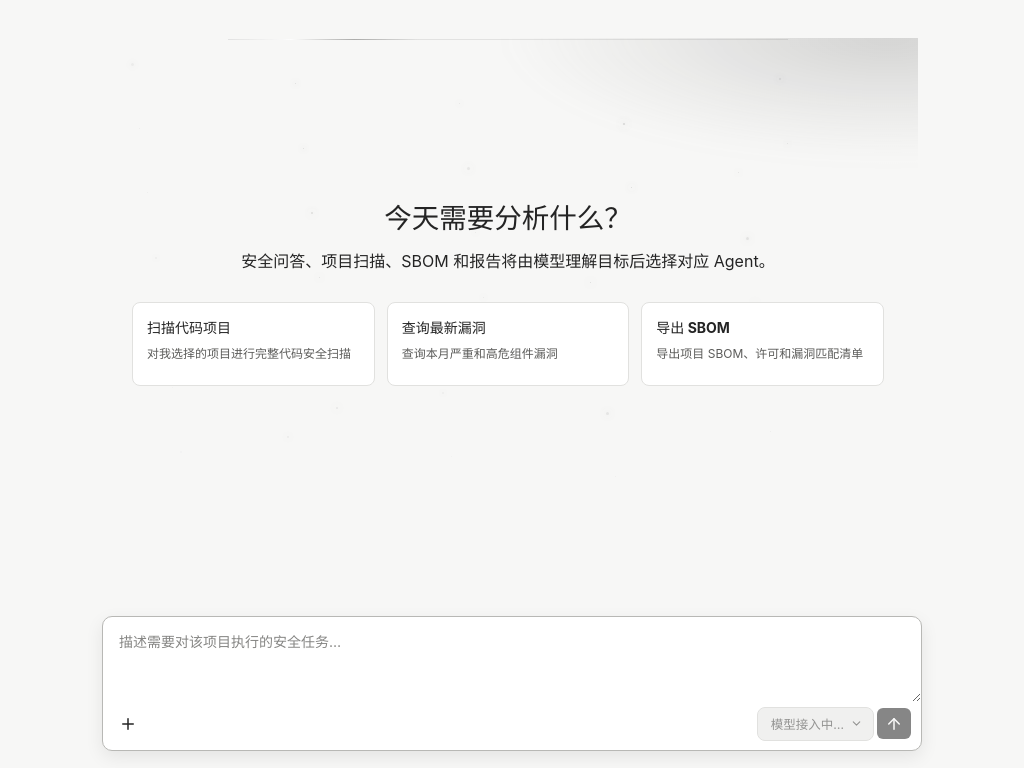
AssistantWorkspace project routing › keeps submitted progress compact without forcing the inspector open
Type "什么是 SQL 注入" into the text box at (512, 659), box [103,617,921,702]
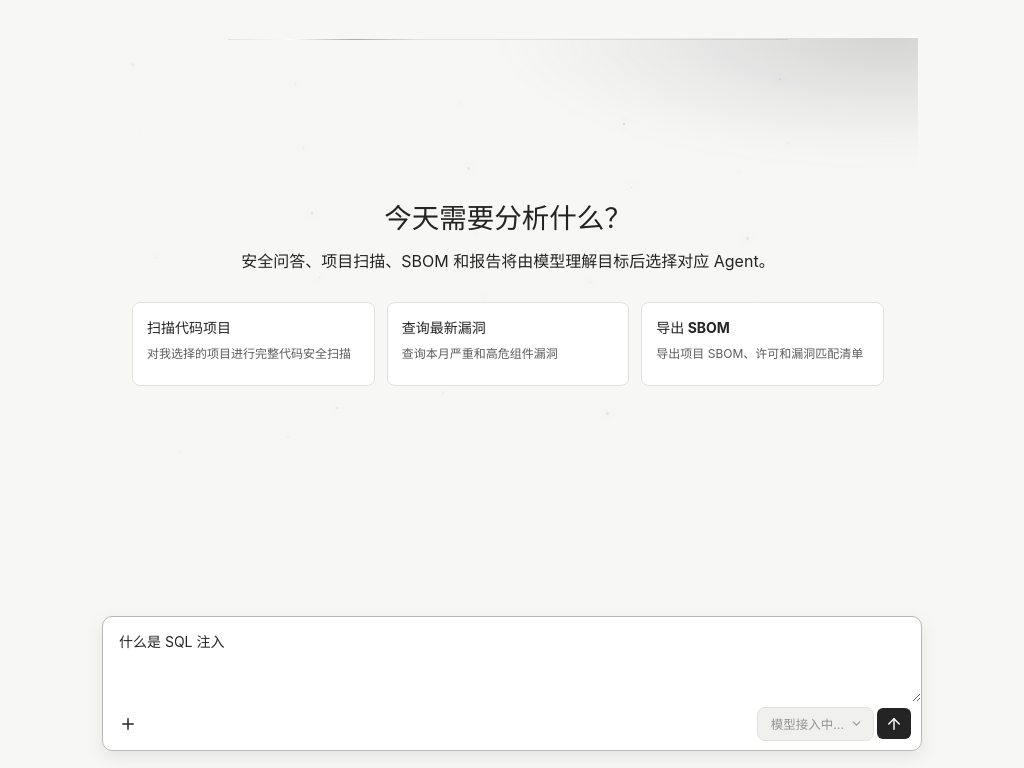
Press Enter in the text box, box [103,617,921,702]
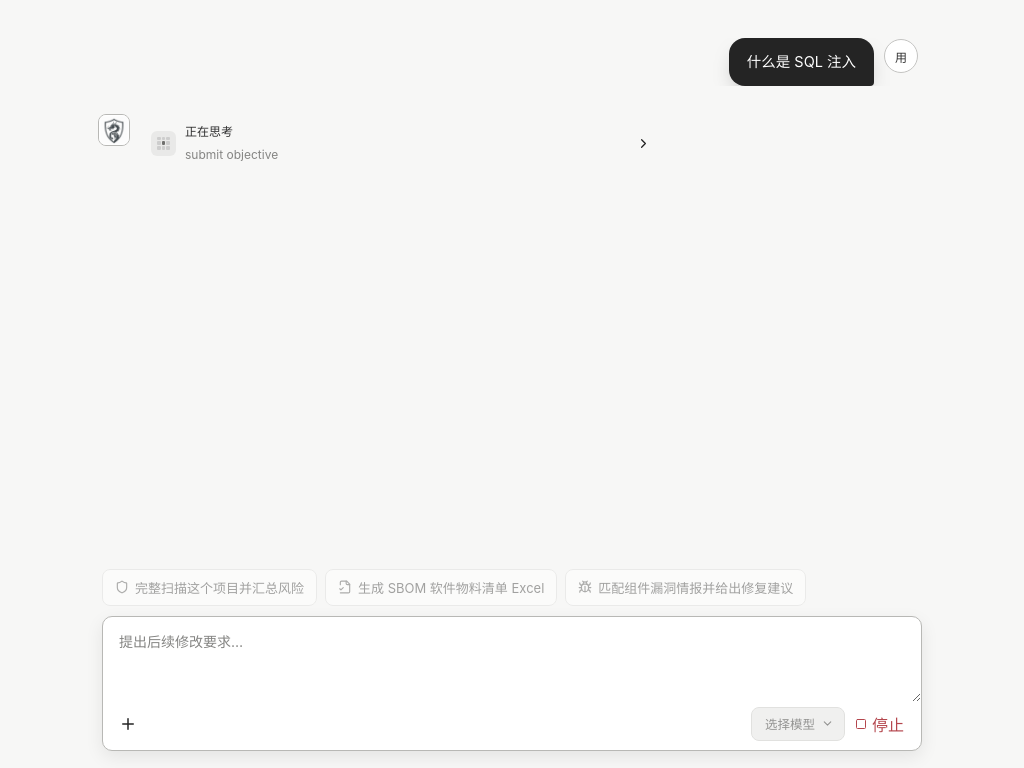
Click the button "正在思考 submit objective" at (209, 131), box [141,114,661,172]
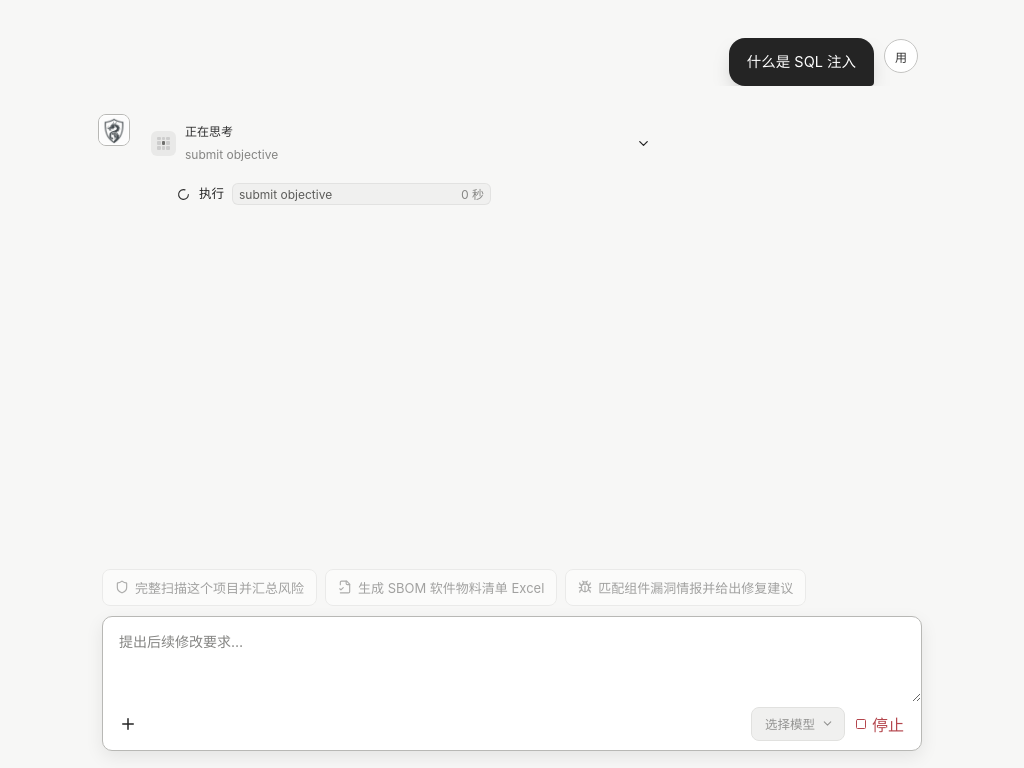
Expected: the list named "执行过程" is shown, [173,178,493,214]
